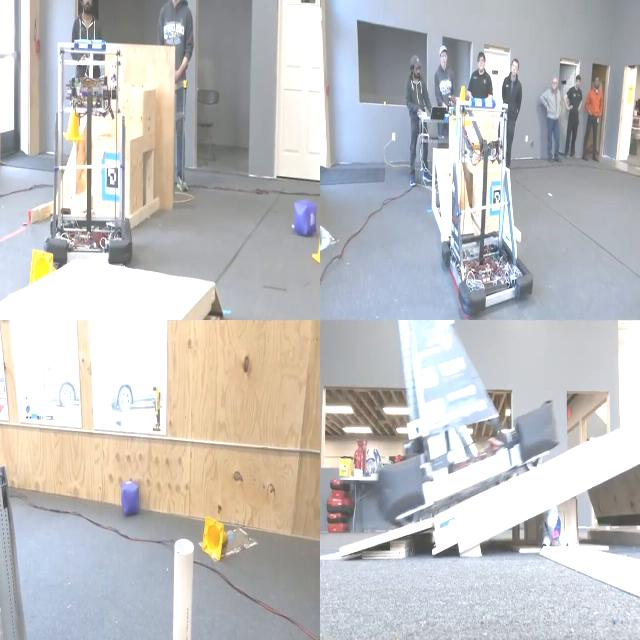frc_cone: (203, 512, 228, 561), (30, 247, 54, 289), (63, 99, 84, 145), (451, 81, 472, 126)
frc_cube: (291, 194, 317, 238), (119, 478, 141, 519)
